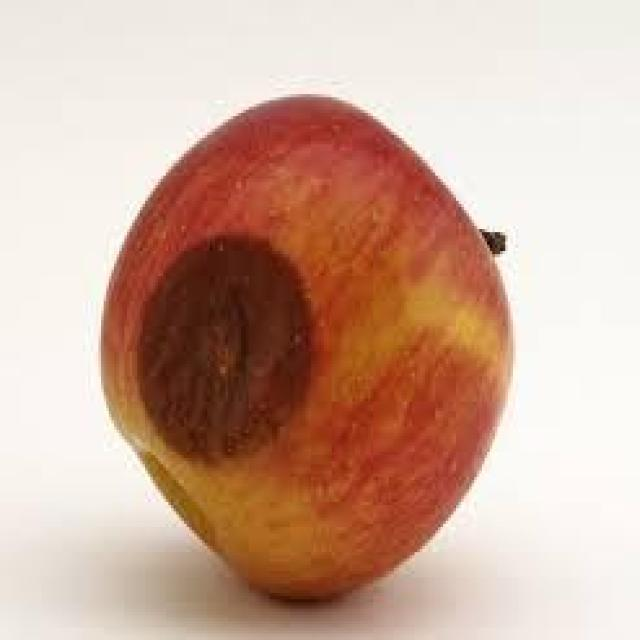organic: (96, 94, 516, 609)
